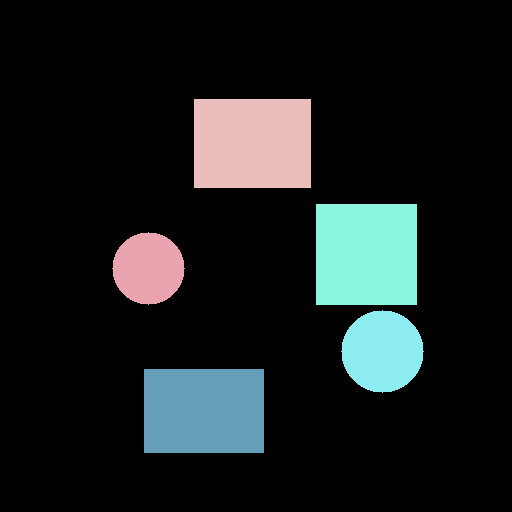circle: (341, 310, 423, 392), (112, 232, 184, 304)
rectangle: (194, 99, 310, 187), (144, 369, 263, 452)
square: (316, 204, 416, 304)
